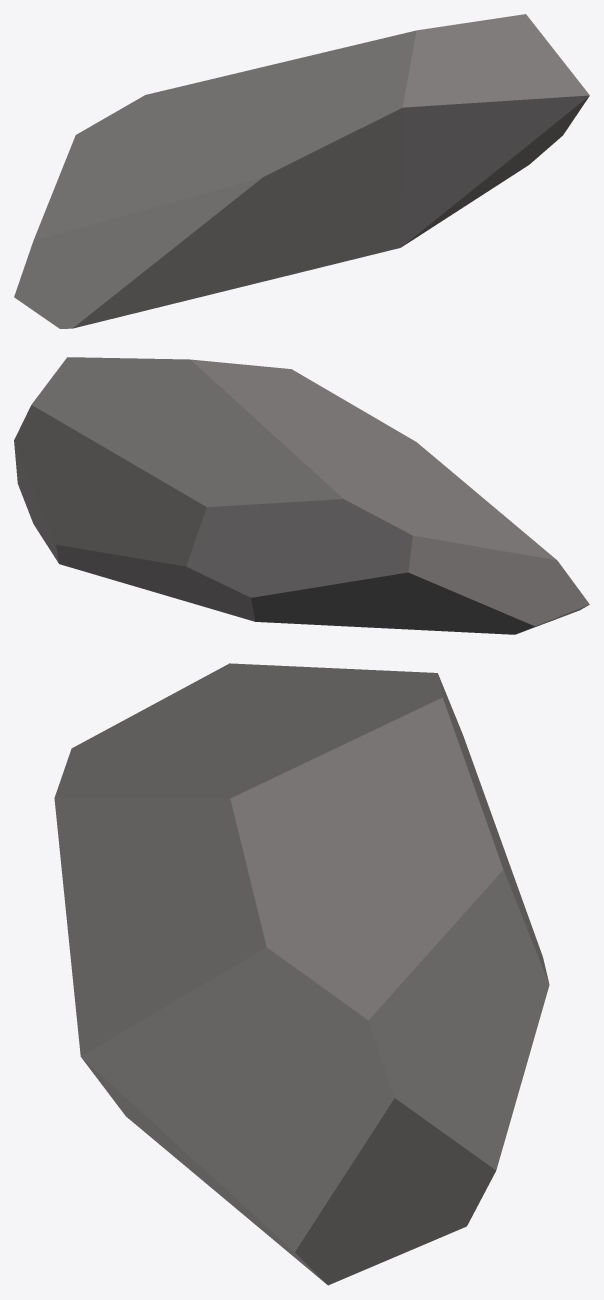
File: Rock_Sharp_m_20.fbx
The picture shows the model from 3 angles, top to bottom: view 1: azimuth 30°, elevation 25°; view 2: azimuth 150°, elevation 25°; view 3: azimuth 270°, elevation 25°; orthographic projection. The views are drawn at different scales.
Visible parts, largest first — view 1: Rock_Sharp_m_20; view 2: Rock_Sharp_m_20; view 3: Rock_Sharp_m_20.
Part boxes in pixels (x1,y1,x2,y2): Rock_Sharp_m_20: [14, 14, 589, 328]; Rock_Sharp_m_20: [14, 357, 589, 634]; Rock_Sharp_m_20: [54, 663, 549, 1285].
Bounding box in the file's own units: 154 × 48.12 × 60.23.
